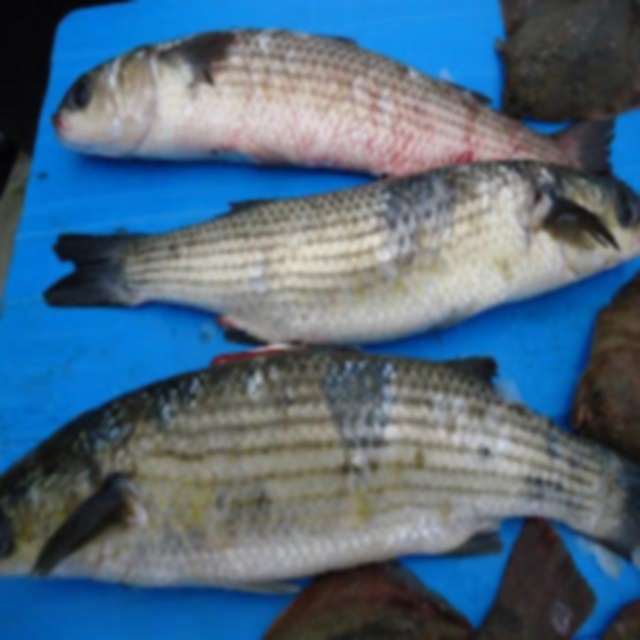EUS Disease: (0, 342, 640, 598), (34, 159, 640, 342), (45, 34, 640, 167)
